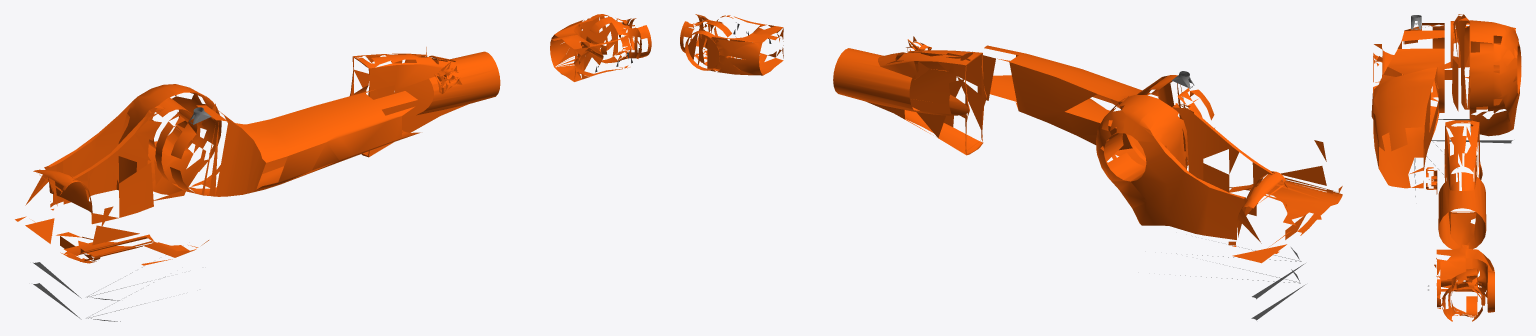
3 views of the same model, side by side, from view 1: azimuth 30°, elevation 25°; view 2: azimuth 150°, elevation 25°; view 3: azimuth 270°, elevation 25° (orthographic).
Parts seen in each view (by area): view 1: KR210-2.1, KR210-2.2, KR210L180-2.3, KR210-2.4, KR210-2.5, KR210-2.0; view 2: KR210-2.1, KR210L180-2.3, KR210-2.2, KR210-2.4, KR210-2.5, KR210-2.0; view 3: KR210-2.2, KR210-2.1, KR210L180-2.3, KR210-2.4, KR210-2.5, KR210-2.0, KR210-2.1pis.
Part boxes in pixels (x1,y1,x2,y2): KR210-2.1: (15,84,221,265); KR210-2.2: (155,85,420,196); KR210L180-2.3: (350,47,500,157); KR210-2.4: (550,14,640,81); KR210-2.5: (586,17,651,63); KR210-2.0: (33,262,165,321); KR210-2.1: (1096,95,1342,263); KR210L180-2.3: (833,36,986,155); KR210-2.2: (977,45,1214,166); KR210-2.4: (685,15,783,75); KR210-2.5: (680,14,736,65); KR210-2.0: (1176,242,1305,320); KR210-2.2: (1373,23,1444,188); KR210-2.1: (1371,14,1521,136); KR210L180-2.3: (1426,120,1486,249); KR210-2.4: (1428,244,1494,312); KR210-2.5: (1439,268,1485,321); KR210-2.0: (1414,119,1512,196); KR210-2.1pis: (1411,15,1421,29).
Bounding box in the file's own units: 3582 × 757 × 1025.
